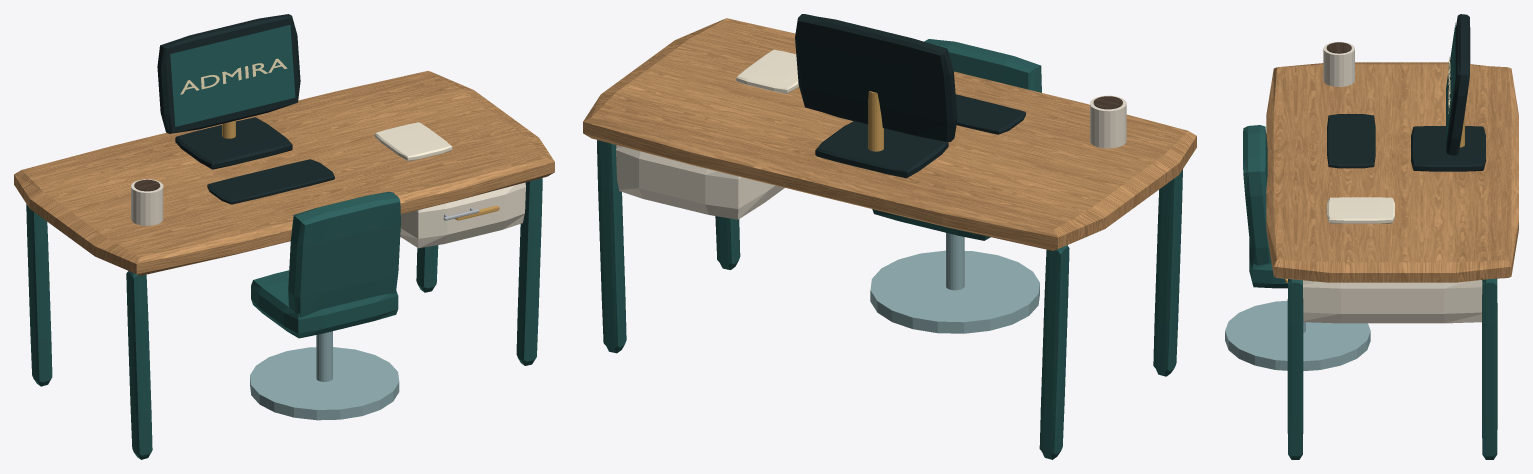
The model's file is hiperreal-hd.glb.
The picture shows the model from 3 angles, left to right: view 1: azimuth 30°, elevation 25°; view 2: azimuth 150°, elevation 25°; view 3: azimuth 270°, elevation 25°; orthographic projection. The views are drawn at different scales.
Parts seen in each view (by area): view 1: Native component 0, Native component 10, Native component 16, Native component 8, Native component 4, Native component 1, Native component 5, Sign ADMIRA; view 2: Native component 0, Native component 16, Native component 10, Native component 8, Native component 1, Native component 5, Native component 2; view 3: Native component 0, Native component 10, Native component 1, Native component 16, Native component 8, Native component 5, Native component 4.
Boxes of the visible parts, box(x1,y1,x2,y2) form: Native component 0: box(14, 70, 554, 275); Native component 10: box(26, 178, 542, 459); Native component 16: box(157, 14, 334, 204); Native component 8: box(250, 331, 399, 420); Native component 4: box(170, 25, 295, 126); Native component 1: box(131, 179, 525, 248); Native component 5: box(374, 122, 452, 161); Sign ADMIRA: box(180, 58, 287, 94); Native component 0: box(583, 18, 1196, 250); Native component 16: box(795, 14, 1025, 178); Native component 10: box(597, 39, 1182, 459); Native component 8: box(870, 233, 1039, 333); Native component 1: box(616, 95, 1126, 219); Native component 5: box(736, 49, 798, 93); Native component 2: box(868, 91, 883, 151); Native component 0: box(1266, 62, 1518, 282); Native component 10: box(1243, 125, 1497, 459); Native component 1: box(1303, 42, 1482, 323); Native component 16: box(1327, 14, 1485, 171); Native component 8: box(1225, 300, 1370, 370); Native component 5: box(1327, 197, 1394, 223); Native component 4: box(1446, 23, 1455, 143).
Size of the model in its own units: 2.05 by 1.43 by 1.21.
Materials: 11 (2 with a texture image).
